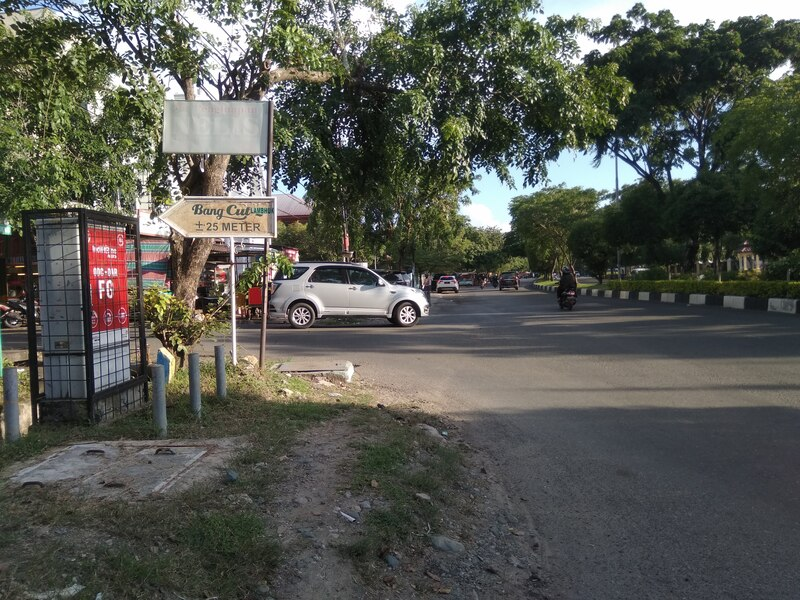car: (262, 257, 445, 331), (496, 269, 523, 291), (435, 272, 462, 292)
motorcycle: (558, 278, 582, 313)
